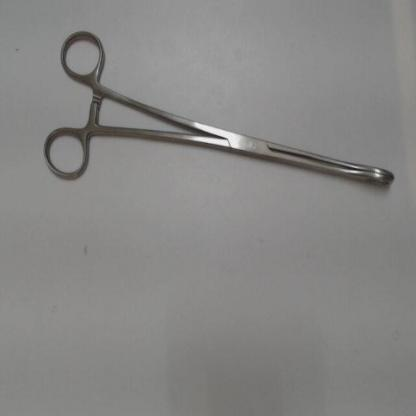Sponge Forceps: (33, 27, 403, 202)
